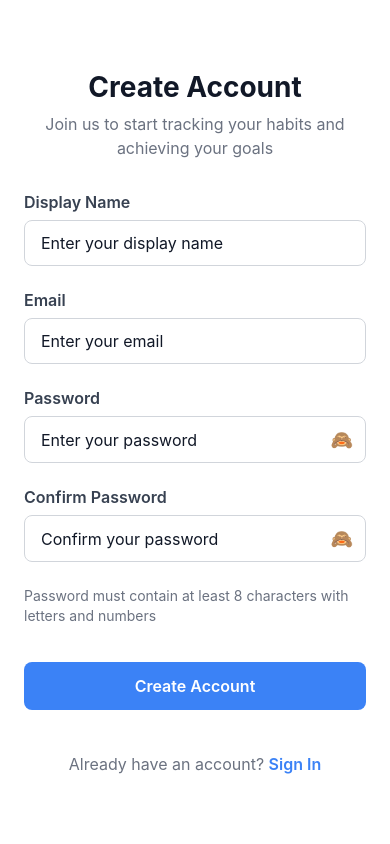
SignUpScreen › Form Validation › shows error when email is empty
The width and height of the screenshot is (390, 844).
Click the element with test id "signup-button".
click(195, 686)  # box [24,662,366,710]
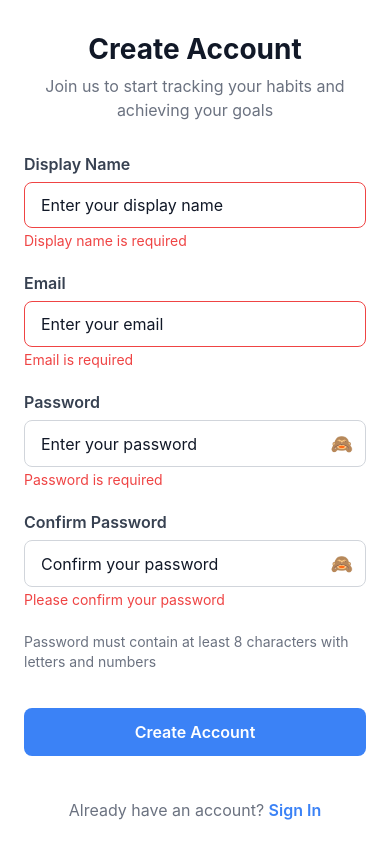
Expected: the text "Email is required" is shown, [24,351,133,368]
